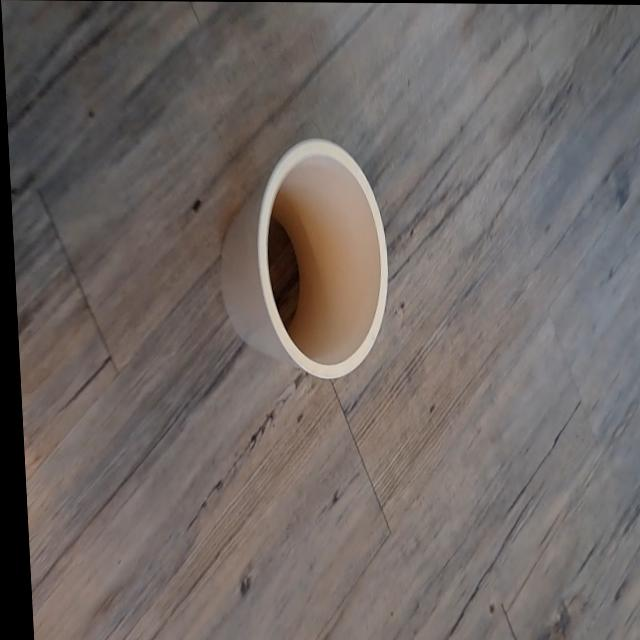CORAL: (198, 111, 403, 417)
